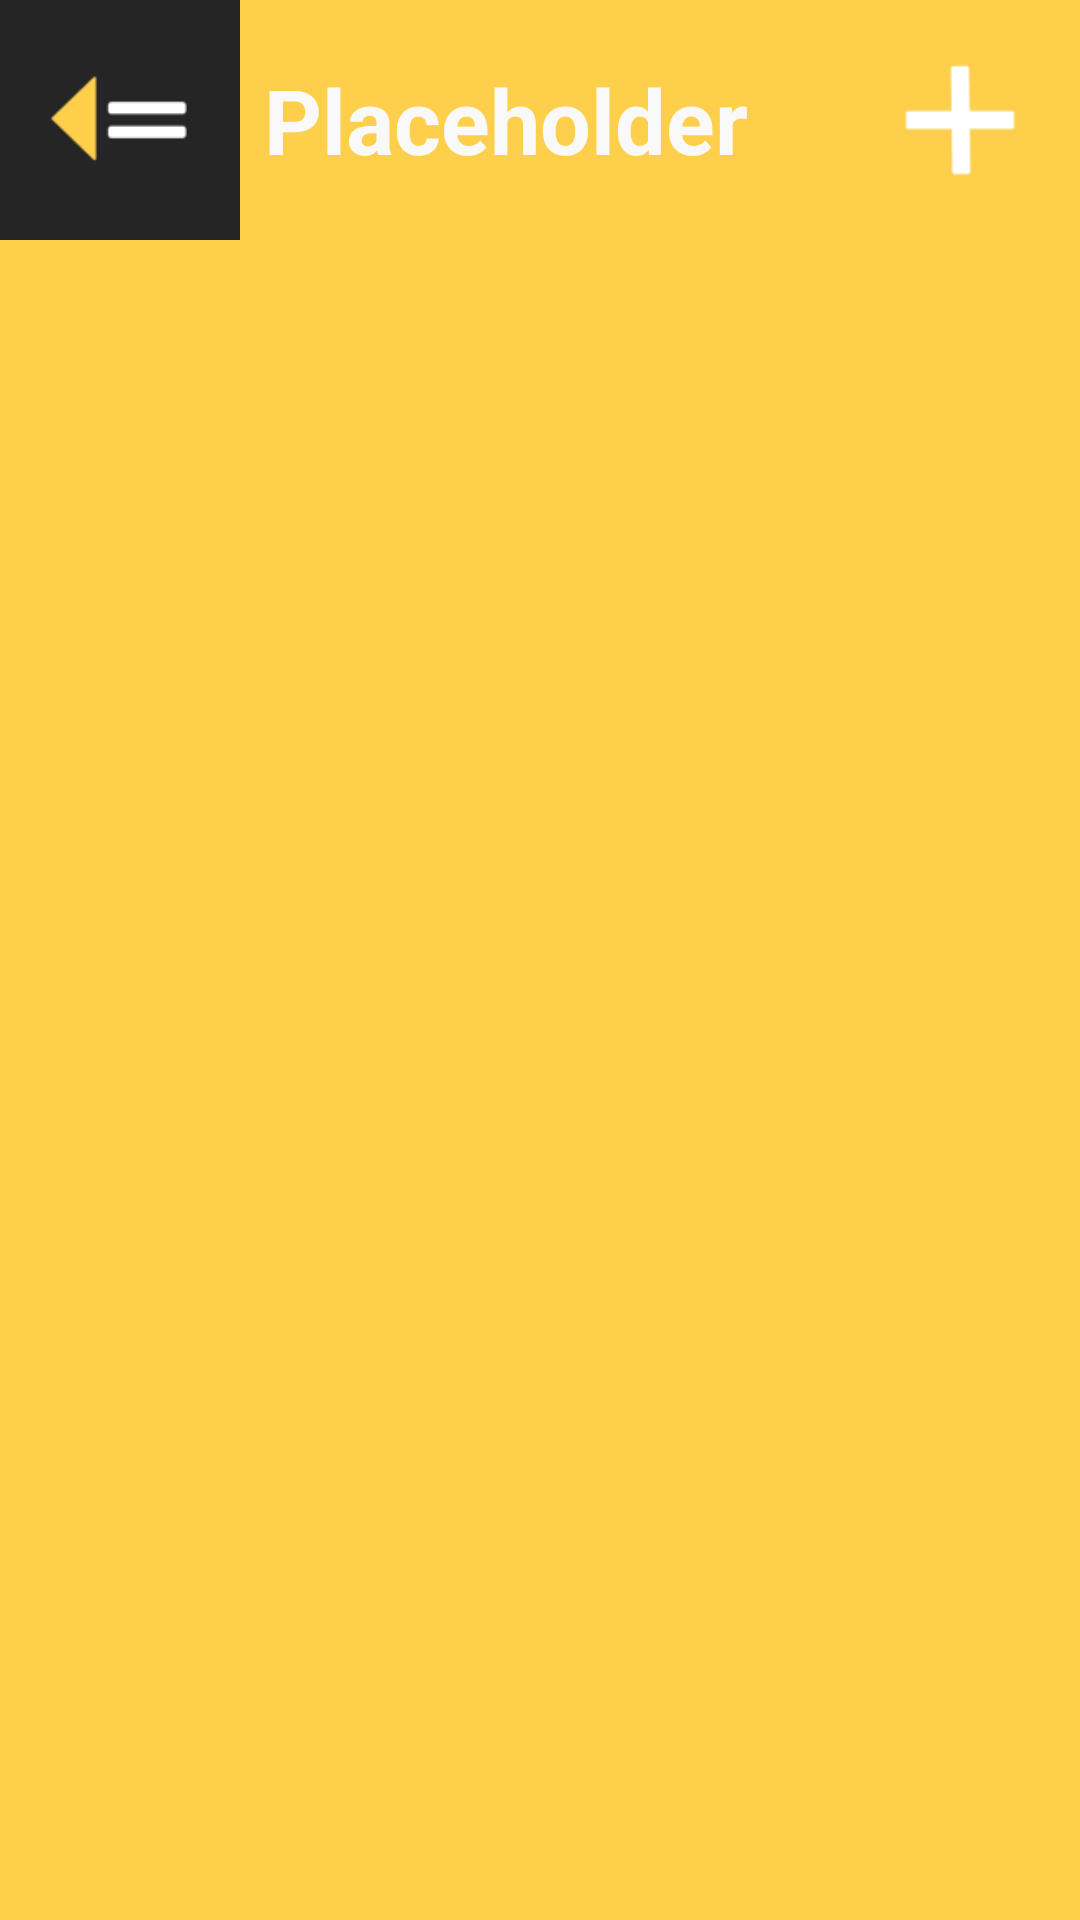

Where icons sit on this 1080x1920 app screen, as (x1, y1, x2, y2):
add: (905, 65, 1015, 175)
back: (0, 0, 240, 240)
